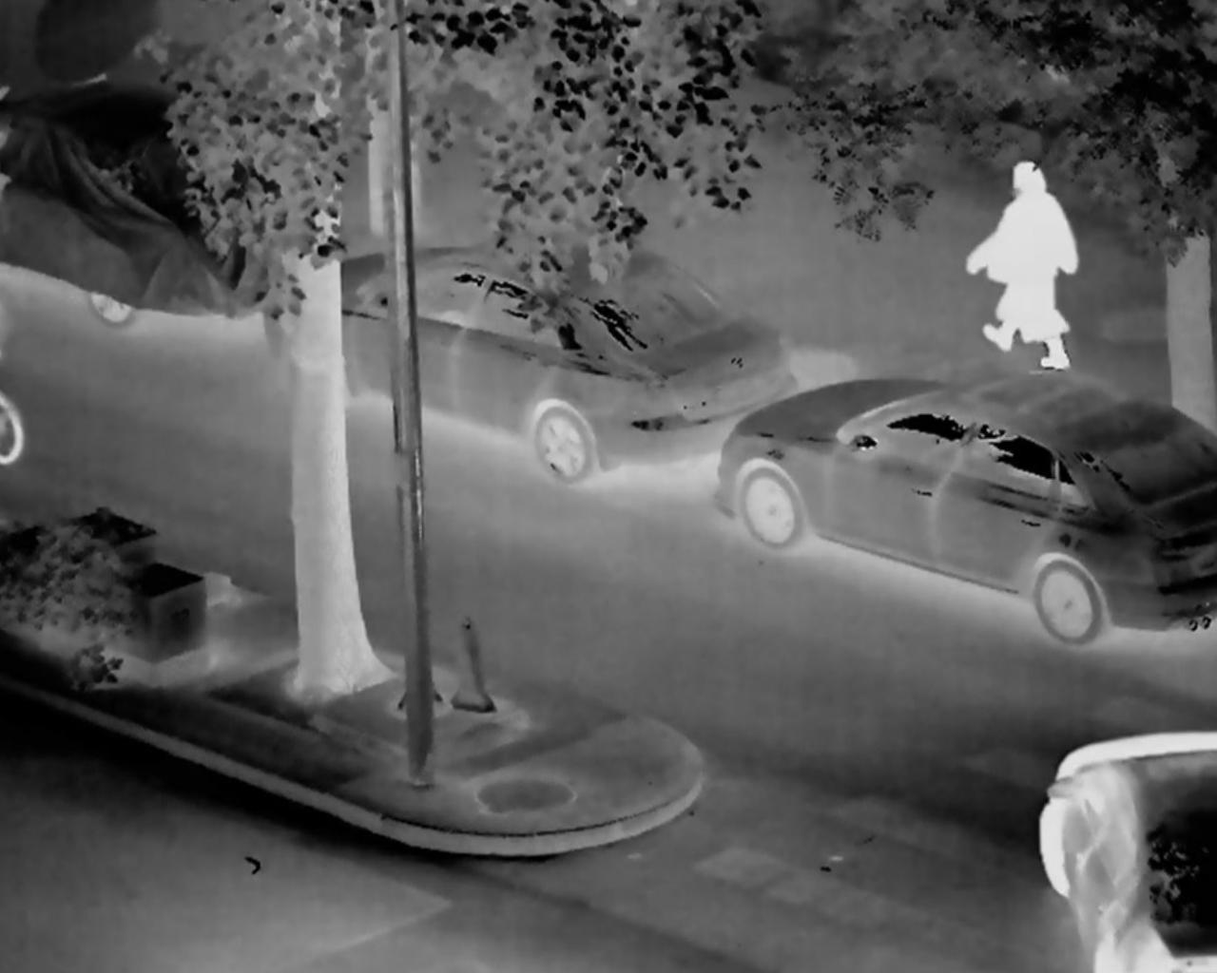person: (959, 152, 1094, 372)
